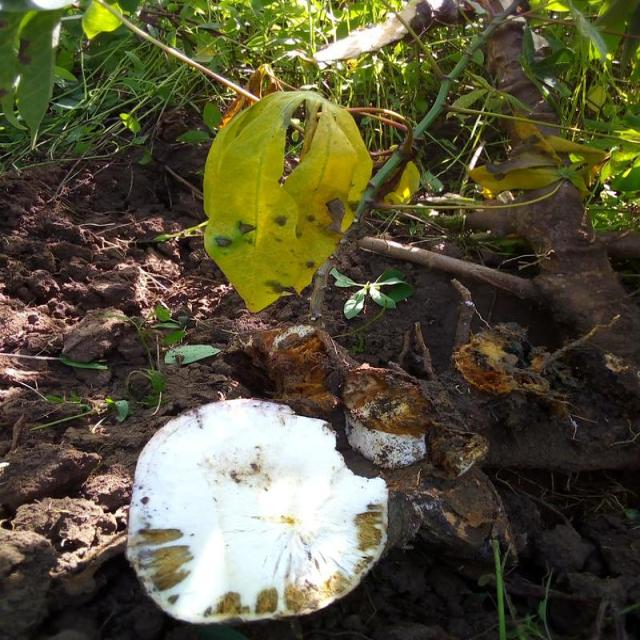cassava leaf: (124, 396, 390, 625), (200, 86, 374, 312)
